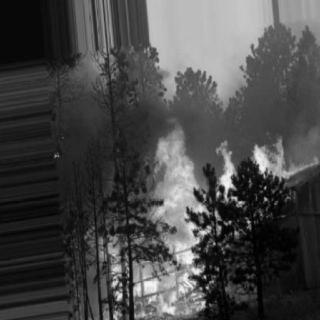Fire: (90, 215, 142, 318)
